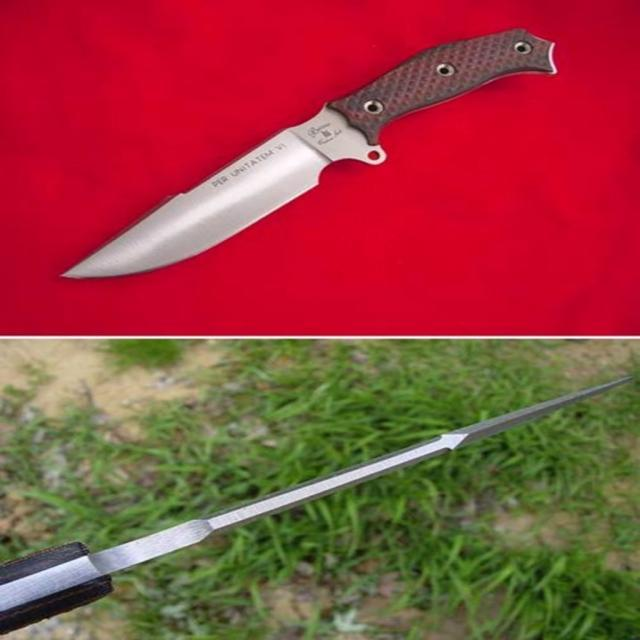Knife: (0, 376, 630, 632), (64, 29, 554, 278)
